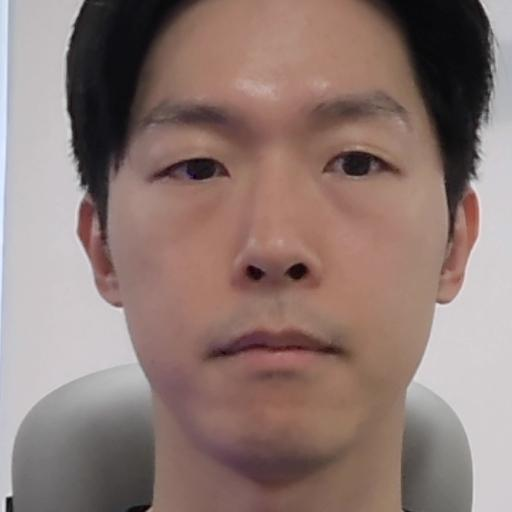no_glasses: (42, 0, 512, 484)
